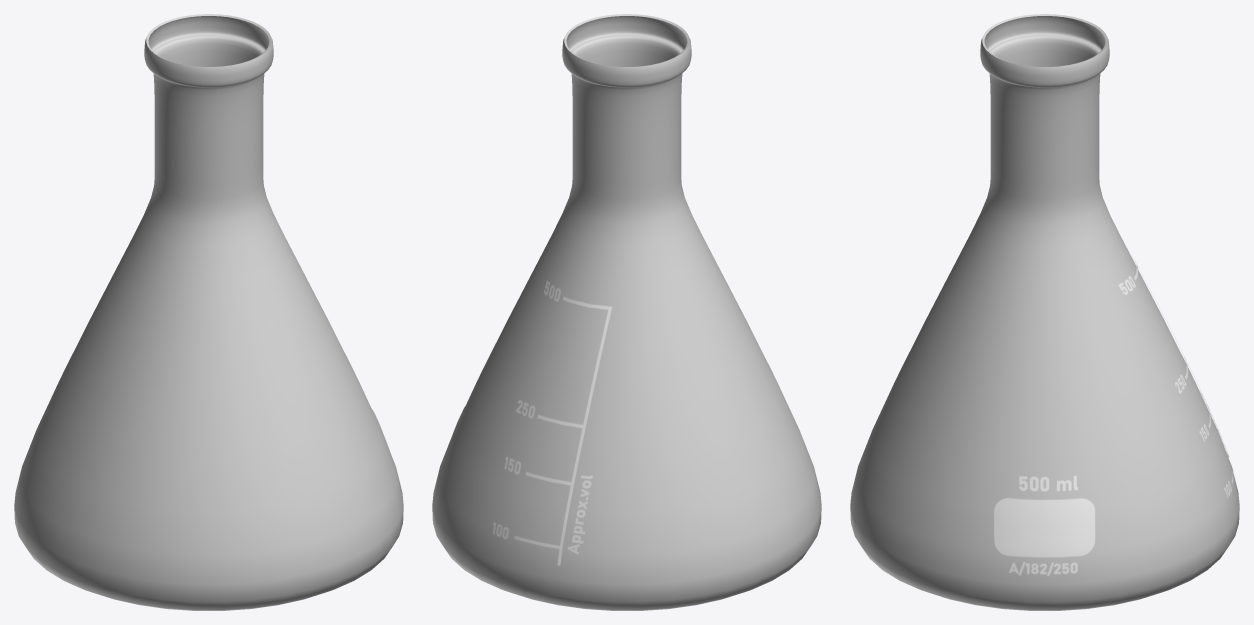
File: beaker-transformed.glb
3 renders of one model, left to right at view 1: azimuth 30°, elevation 25°; view 2: azimuth 150°, elevation 25°; view 3: azimuth 270°, elevation 25°, orthographic.
Visible parts, largest first — view 1: Object_61; view 2: Object_61, Object_62; view 3: Object_61, Object_62.
Boxes of the visible parts, bbox=[...] form: Object_61: bbox=[14, 14, 403, 610]; Object_61: bbox=[432, 14, 821, 610]; Object_62: bbox=[455, 280, 612, 565]; Object_61: bbox=[850, 14, 1239, 610]; Object_62: bbox=[994, 259, 1233, 576].
Size of the model in its own units: 0.3063 by 0.4339 by 0.3058.
3 materials, 1 textured.
